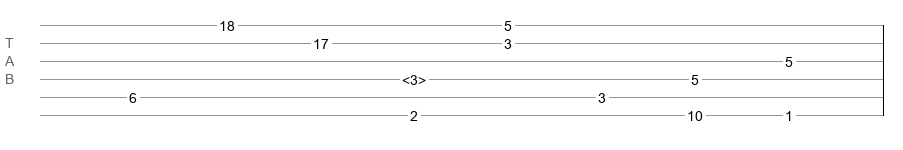1: (785, 108, 793, 118)
10: (687, 108, 703, 118)
17: (313, 36, 329, 46)
18: (219, 18, 235, 28)
2: (410, 108, 418, 118)
3: (504, 36, 512, 46), (598, 90, 606, 100)
5: (504, 18, 512, 28), (691, 72, 699, 82), (785, 54, 793, 64)
6: (129, 90, 137, 100)
harmonic: (402, 72, 426, 82)
